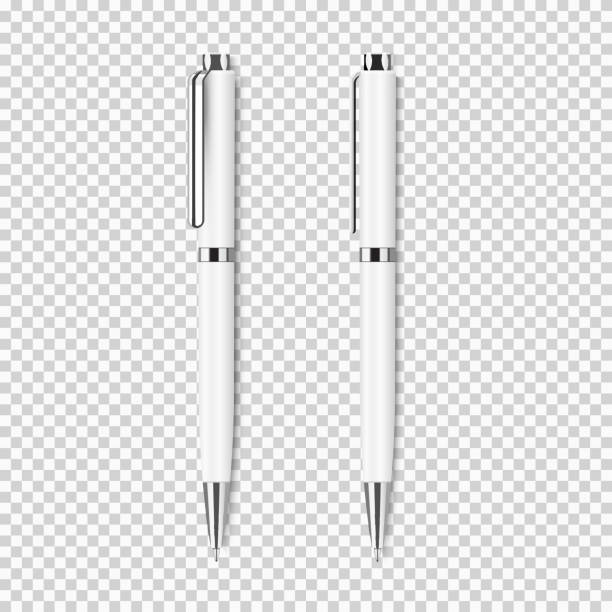pen: (332, 37, 444, 572), (179, 42, 260, 573)
